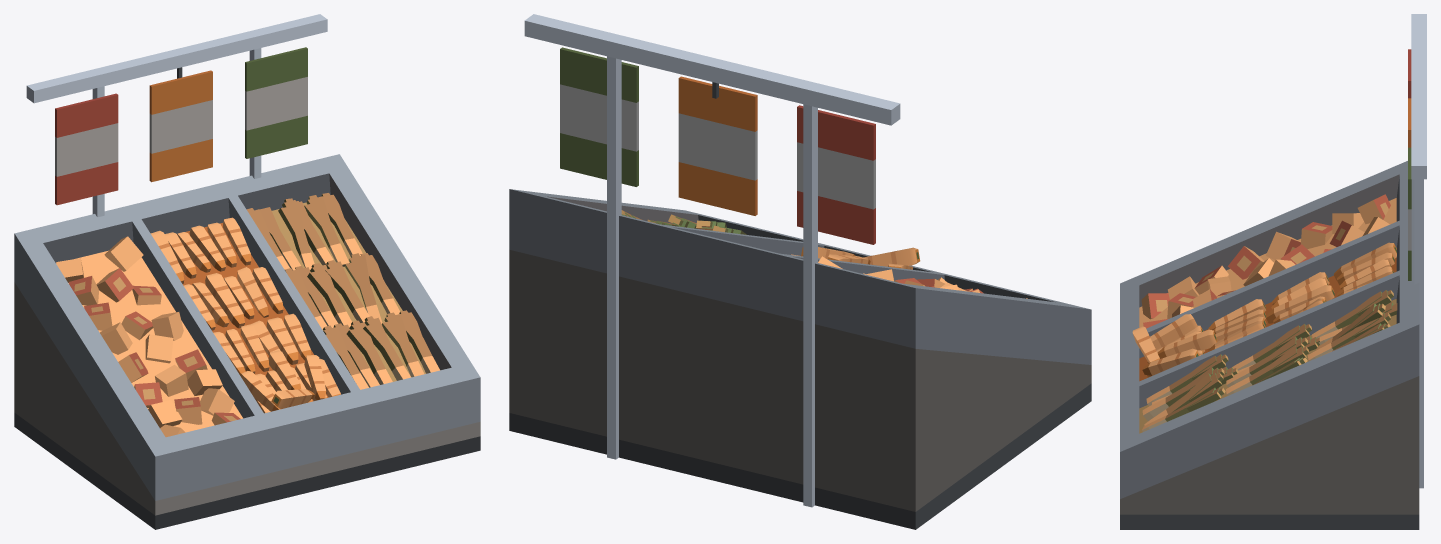
File: rottenfruit3.fbx
3 renders of one model, left to right at view 1: azimuth 30°, elevation 25°; view 2: azimuth 150°, elevation 25°; view 3: azimuth 270°, elevation 25°, orthographic. The views are drawn at different scales.
Visible parts, largest first — view 1: SI_Prop_ProduceSection_03; view 2: SI_Prop_ProduceSection_03; view 3: SI_Prop_ProduceSection_03.
Part boxes in pixels (<box>): SI_Prop_ProduceSection_03: <box>14,14,480,529</box>; SI_Prop_ProduceSection_03: <box>509,14,1091,529</box>; SI_Prop_ProduceSection_03: <box>1120,14,1426,529</box>.
Bounding box in the file's own units: 4 × 3.93 × 3.08.
